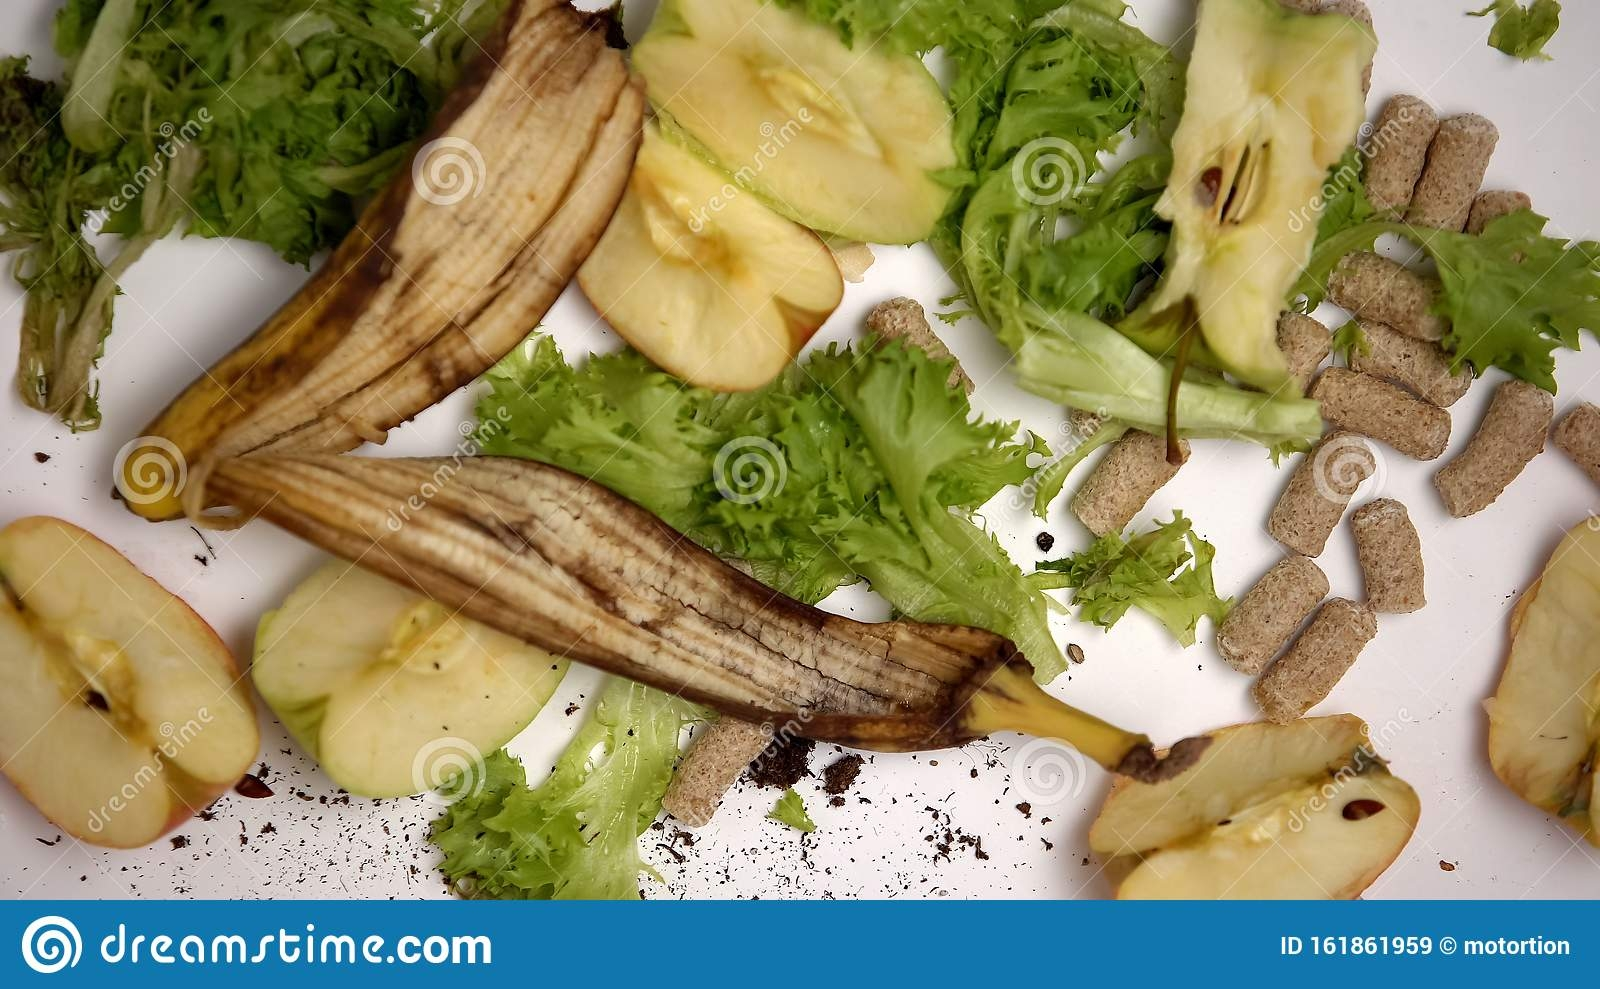kitchen_waste: (177, 429, 1166, 832), (113, 1, 651, 527), (466, 325, 1134, 692), (1, 1, 506, 428), (235, 532, 608, 839), (1118, 1, 1377, 425), (1, 509, 277, 851), (1067, 667, 1463, 903), (625, 1, 984, 248), (419, 651, 738, 914), (550, 129, 849, 396), (1184, 539, 1341, 669), (1049, 417, 1221, 536), (1239, 592, 1387, 725), (1425, 373, 1555, 520), (1328, 78, 1446, 240), (1309, 238, 1477, 348), (1302, 360, 1469, 469), (1258, 422, 1374, 556), (1405, 104, 1506, 255), (1341, 499, 1442, 621), (1329, 324, 1479, 404)
